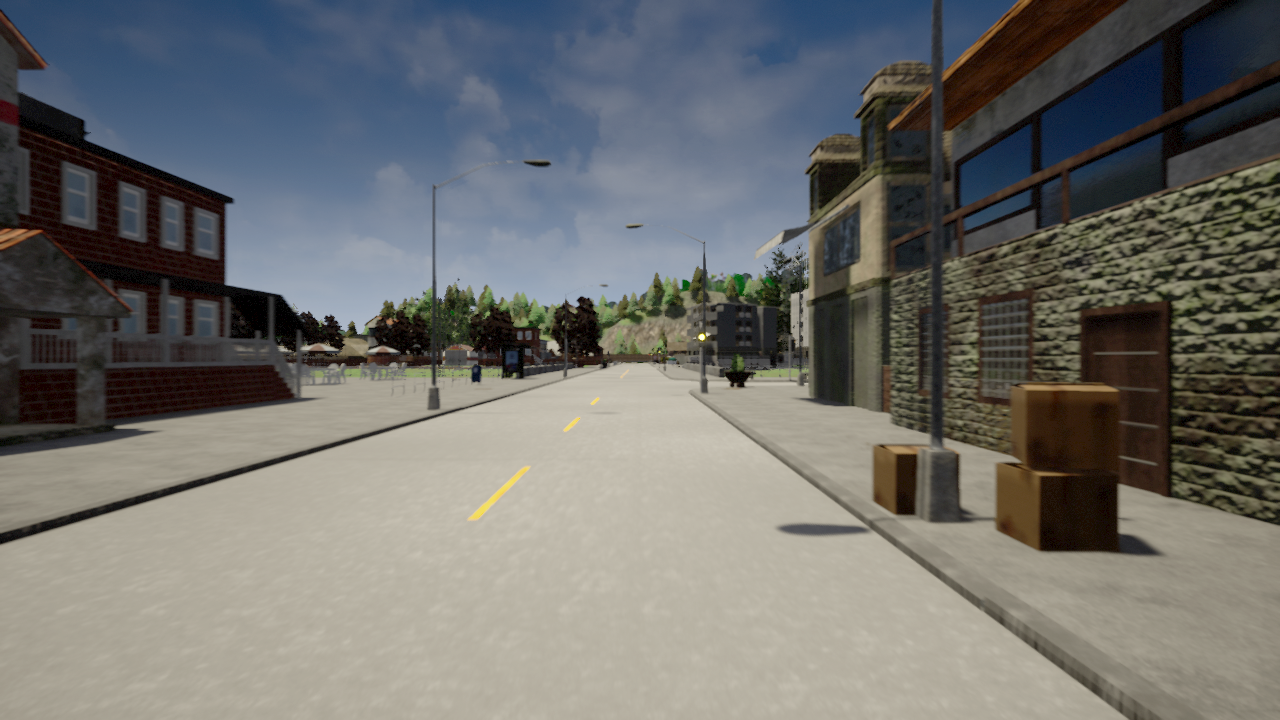yellow: (697, 328, 705, 347)
